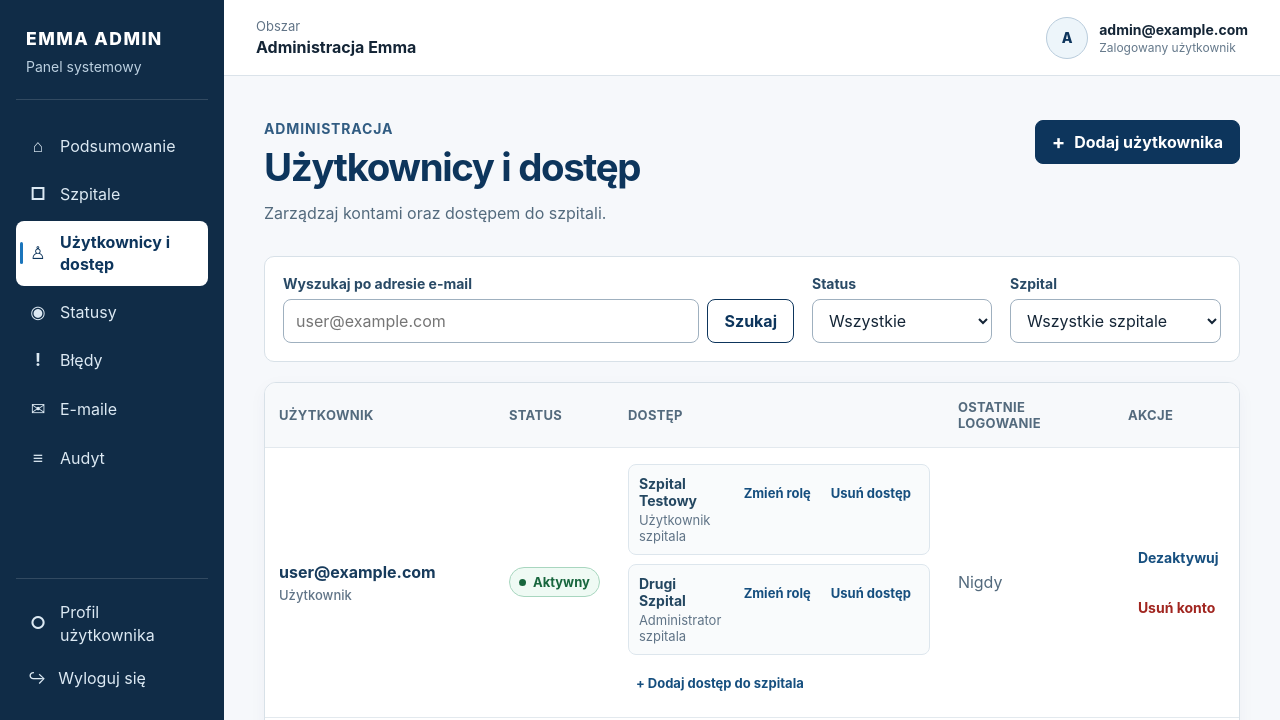
Test: Admin users page › confirms logical account deletion and refreshes the list
The image size is (1280, 720).
Expected: the text "user@example.com" is shown, [279,562,436,582]
Click the button "Usuń konto" at (1177, 608), box [1128,586,1225,630]
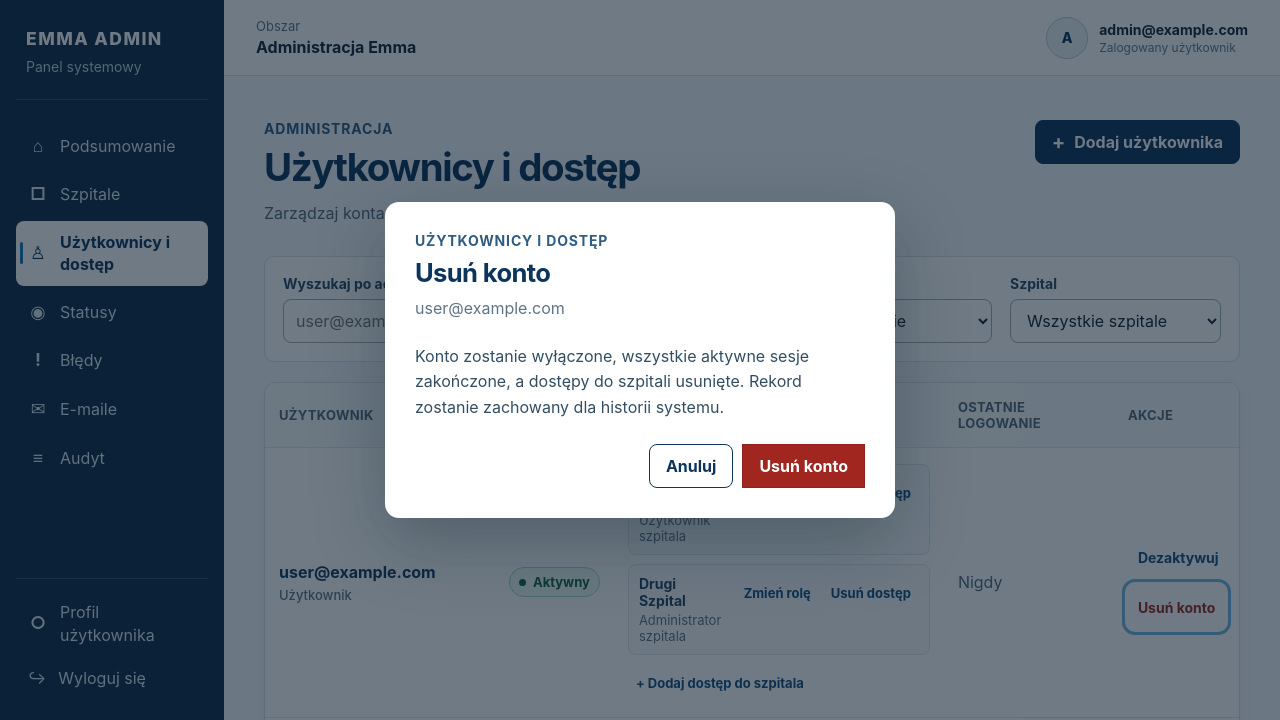
Now the text "Konto zostanie wyłączone, wszystkie aktywne sesje zakończone, a dostępy do szpitali usunięte. Rekord zostanie zachowany " is shown, box [415,346,809,417]
Click the button "Usuń konto" at (804, 466), box [742,444,865,488]
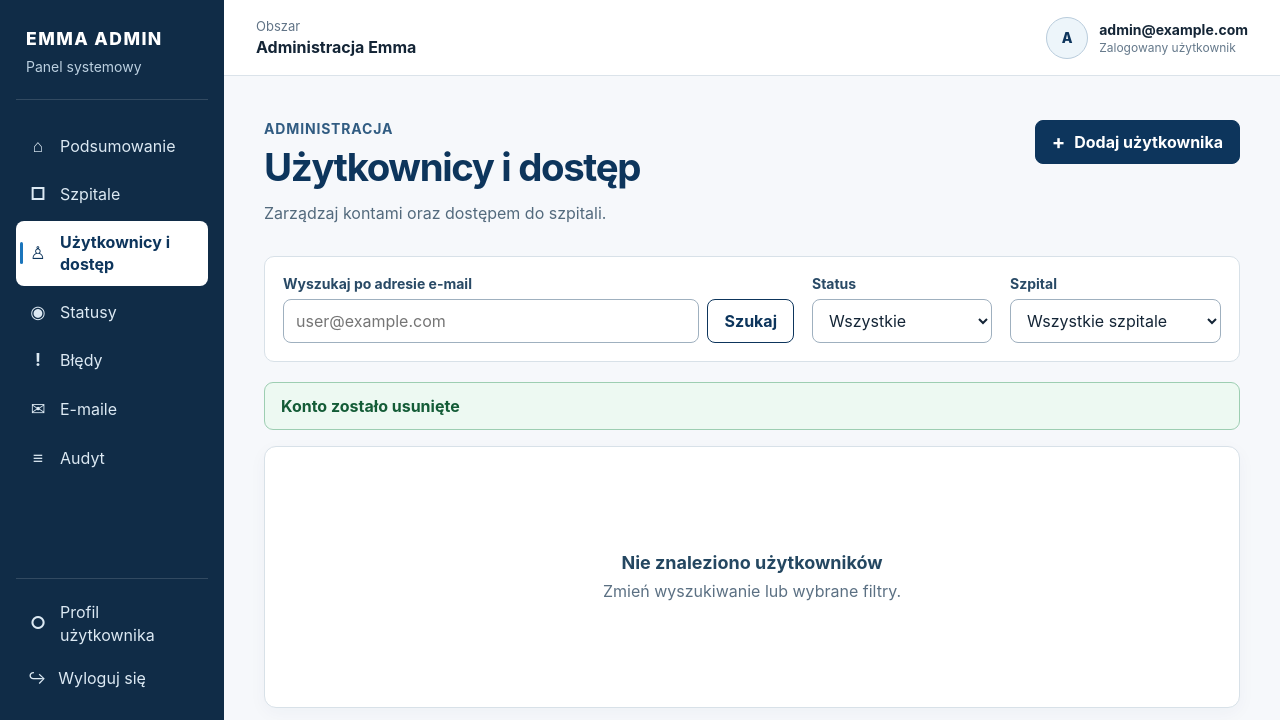
Now the text "Konto zostało usunięte" is shown, box [264,382,1240,430]
Now the dialog is gone
Now the text "Nie znaleziono użytkowników" is shown, box [621,552,883,574]
